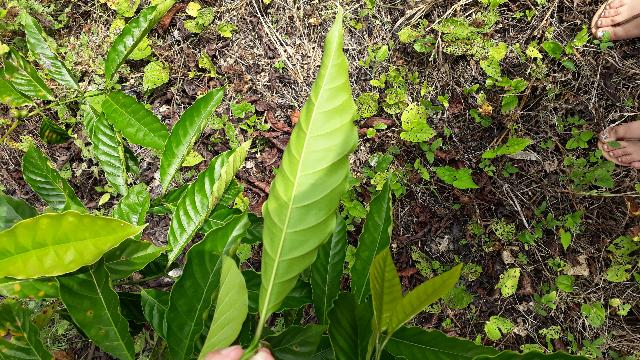healthy: (253, 0, 360, 342)
